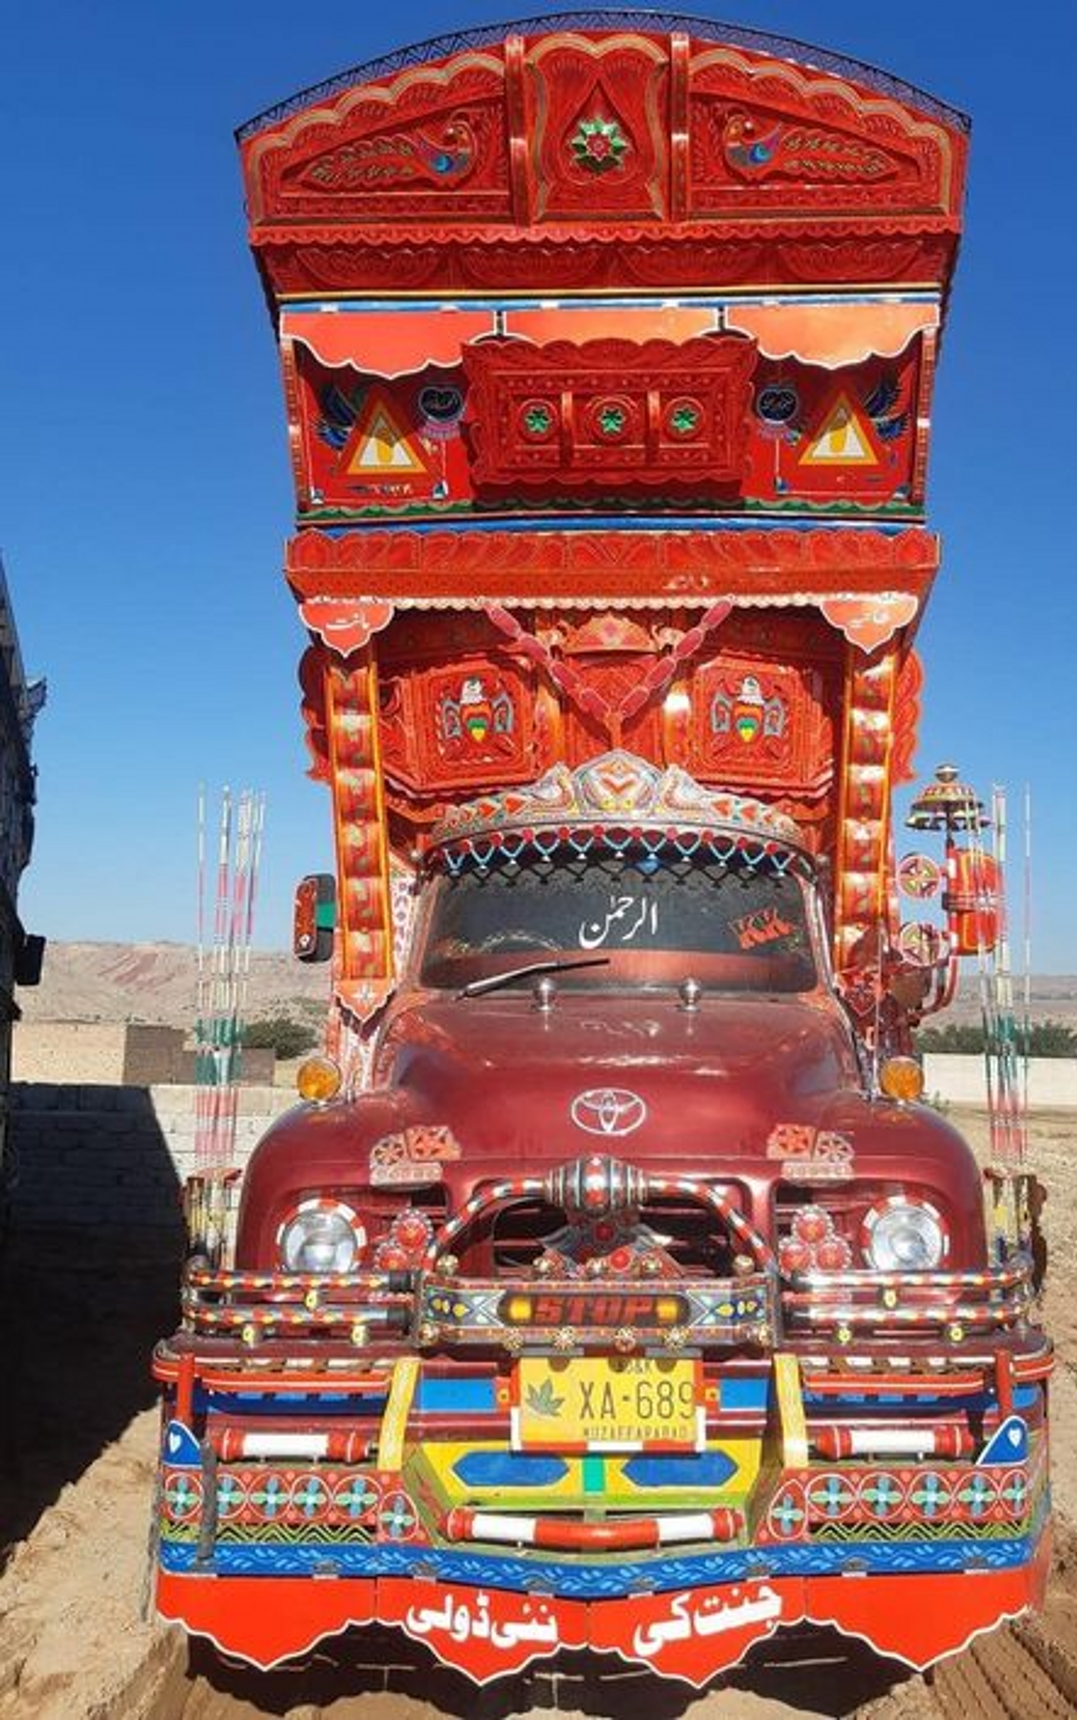person: (509, 1340, 713, 1458)
